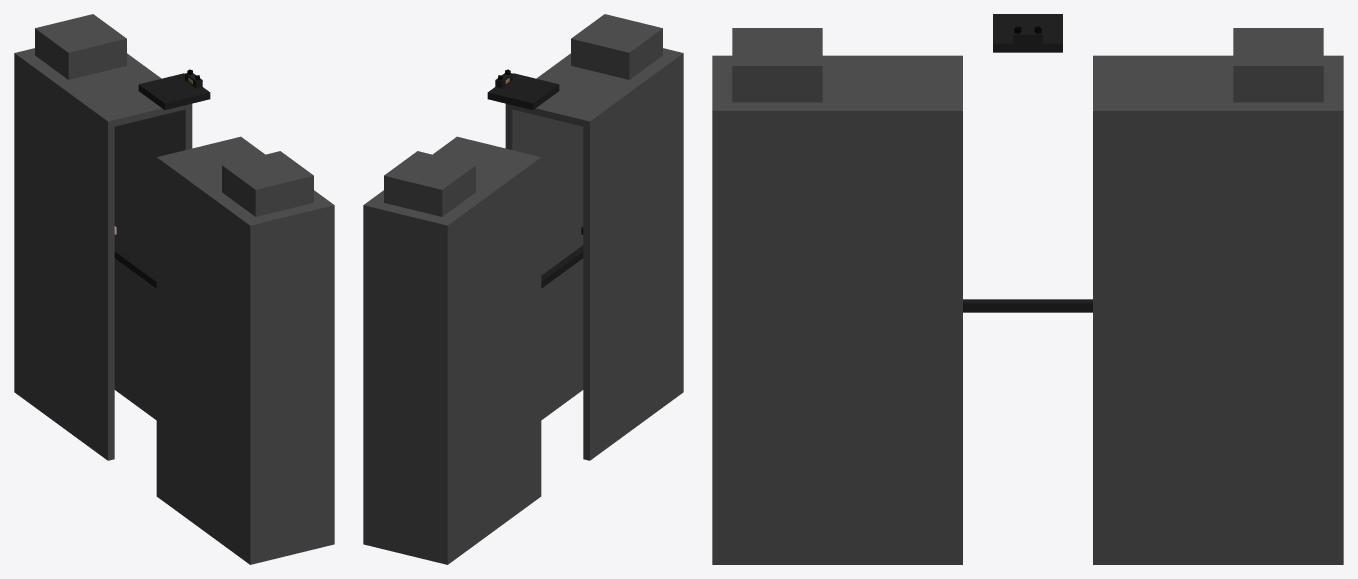
File: minecraft.obj
3 views of the same model, side by side, from view 1: azimuth 30°, elevation 25°; view 2: azimuth 150°, elevation 25°; view 3: azimuth 270°, elevation 25° (orthographic). The views are drawn at different scales.
Size of the model in its own units: 13 by 57.52 by 63.
